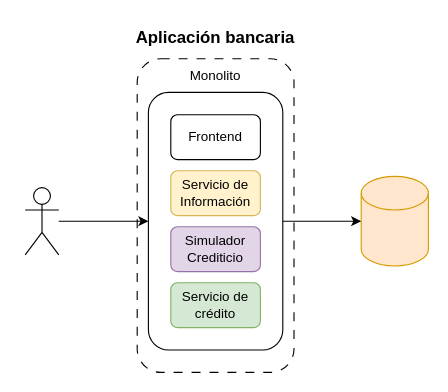
Some shapes in this 448 by 392 pixel diagram are drawn without their labels. Each missing label, with the centre of its shape:
"DB" goes at point 394,220.
"Usuario" goes at point 41,220.
